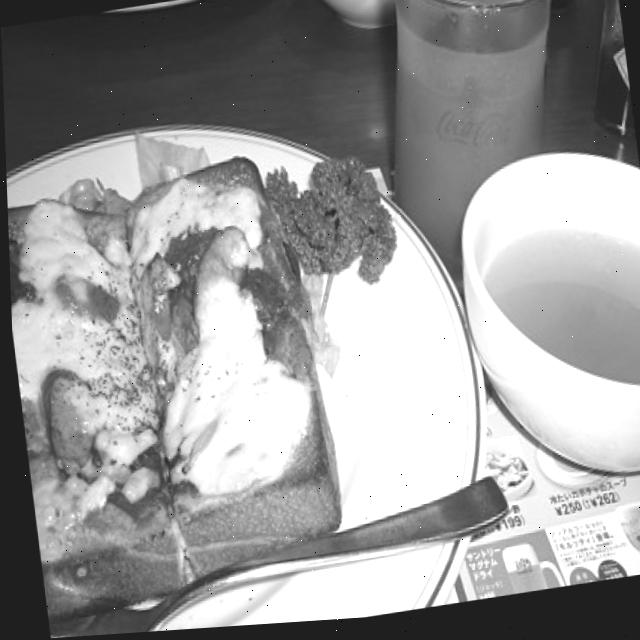面包点心: (5, 143, 310, 639)
